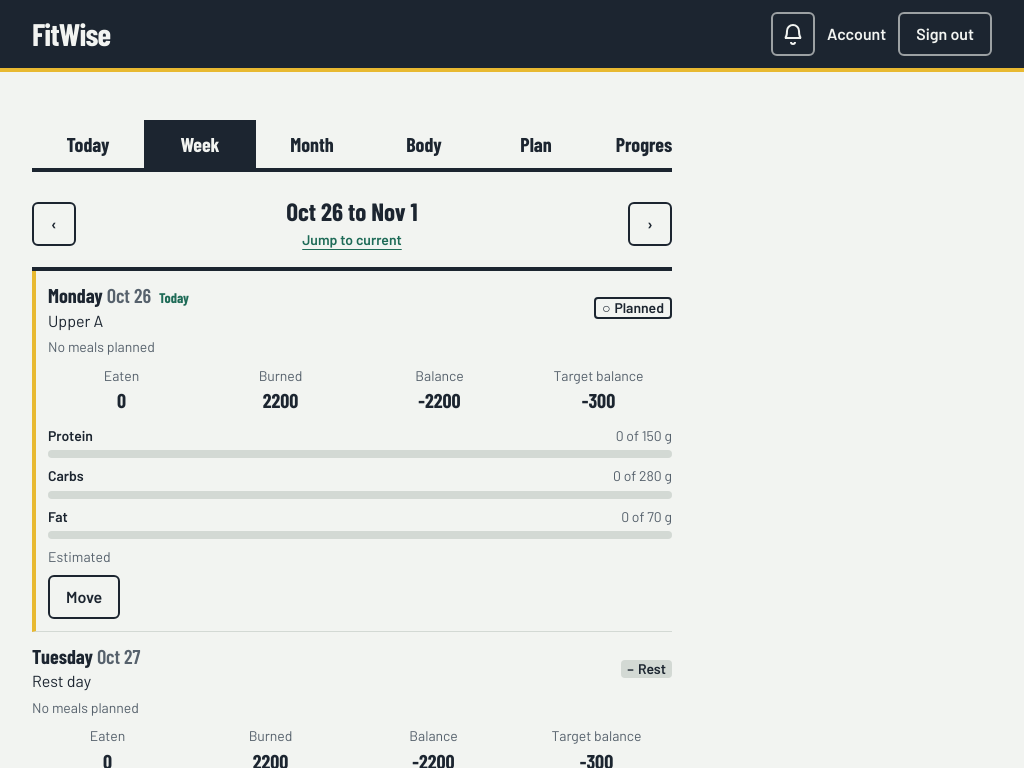
Move session within the week › explains a refusal from the server and keeps the session where it was
Click the button "Move" at (84, 597), box top-left (48, 575), bottom-right (120, 619)
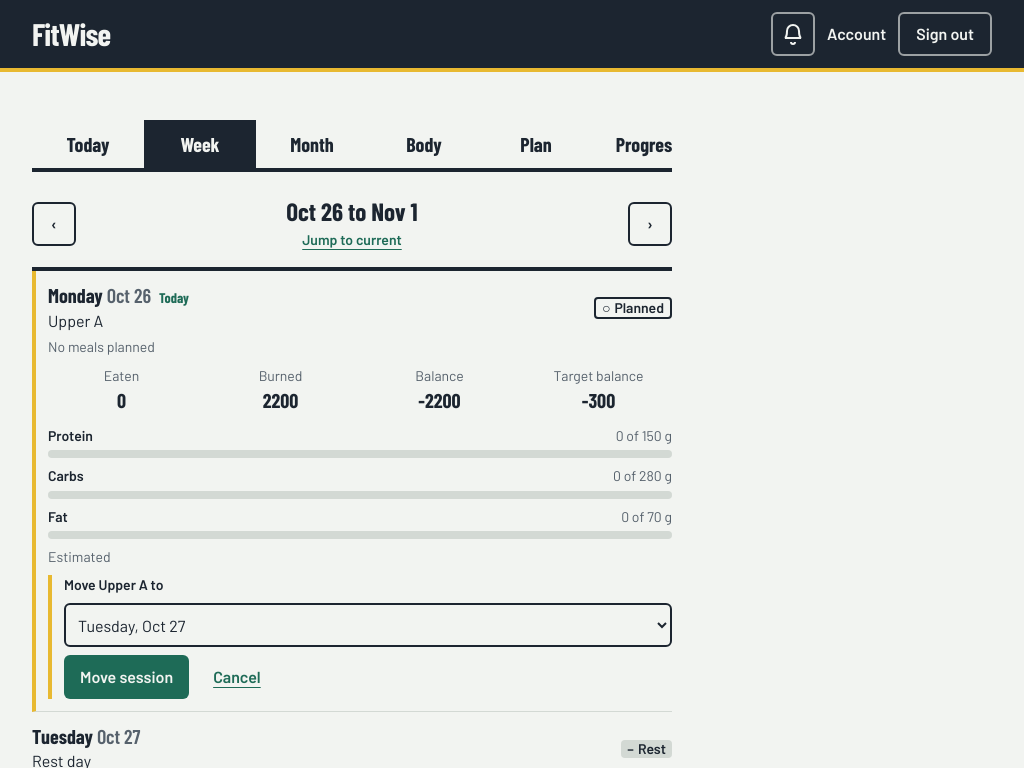
Click the button "Move session" at (127, 677), box top-left (64, 655), bottom-right (189, 699)
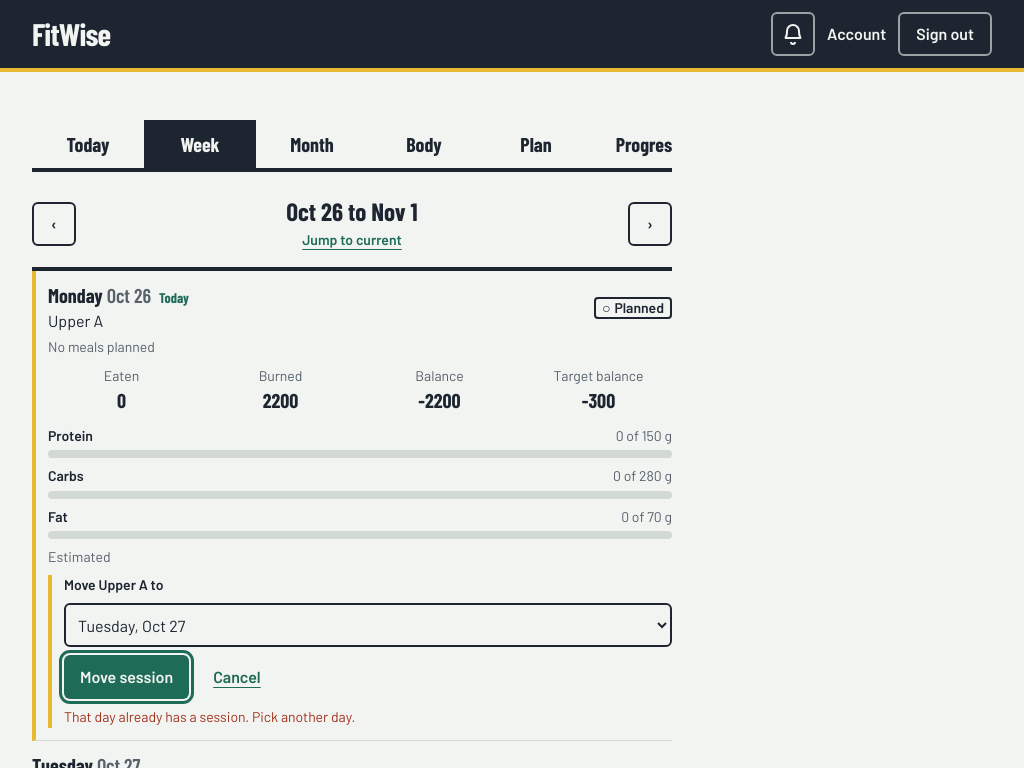
Expected: the list item that starts with "Monday" shows "Upper A", top-left (48, 310), bottom-right (103, 330)
Now the message shows "That day already has a session", box top-left (64, 708), bottom-right (355, 725)
